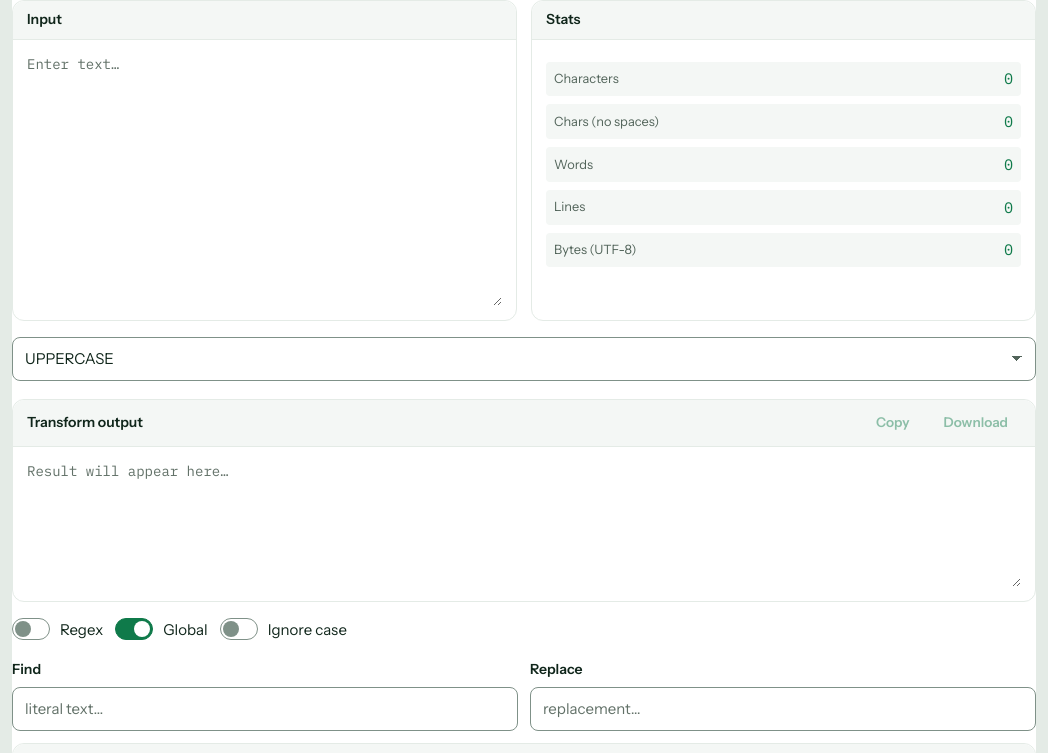
Scenario: StringUtilities › transforms to lowercase
In the text box with placeholder "Enter text…": x=264, y=180 top-left (27, 54), bottom-right (502, 306), type "HELLO WORLD"
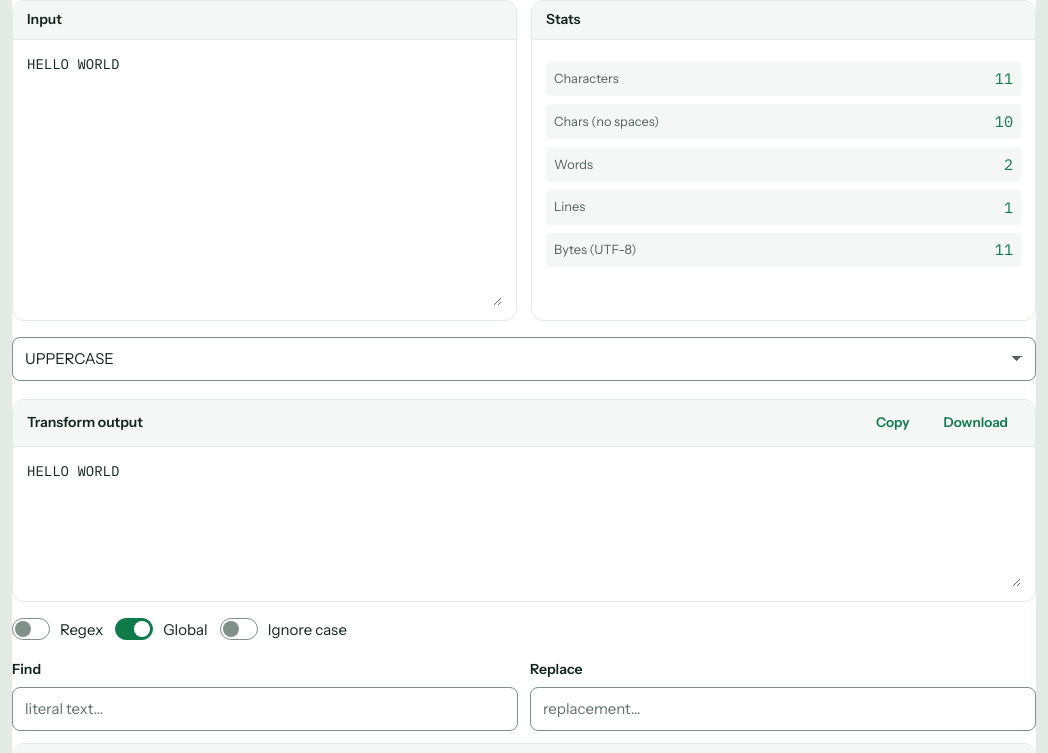
Select "lowercase" in the dropdown: x=524, y=359 top-left (12, 337), bottom-right (1036, 381)
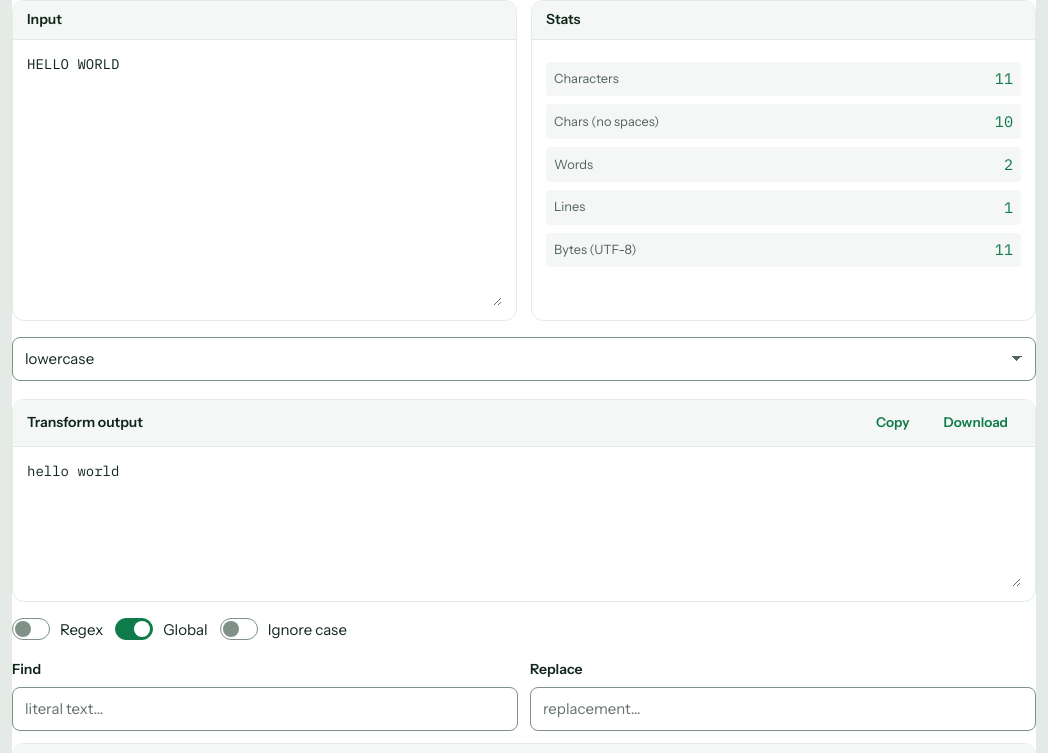
Check: the text box with placeholder "Result will appear here…" below "Transform output" holds "hello world", box top-left (27, 461), bottom-right (1021, 587)
